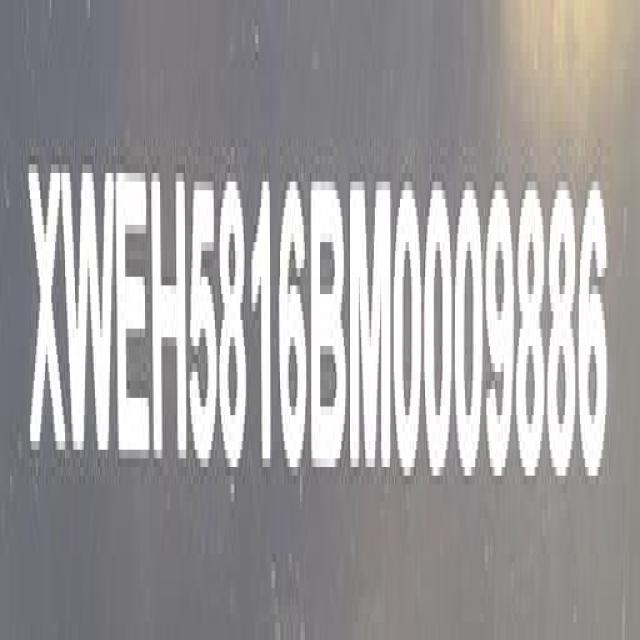0: (453, 181, 484, 482), (424, 180, 454, 485), (395, 176, 425, 481)
1: (252, 176, 276, 479)
5: (190, 172, 220, 478)
6: (278, 171, 309, 478), (578, 180, 606, 478)
8: (218, 172, 248, 477), (517, 185, 547, 482), (550, 188, 580, 479)
9: (485, 183, 515, 484)
B: (310, 175, 347, 479)
E: (117, 164, 152, 470)
H: (154, 167, 188, 472)
M: (350, 170, 391, 482)
W: (67, 159, 117, 469)
X: (29, 157, 68, 469)
